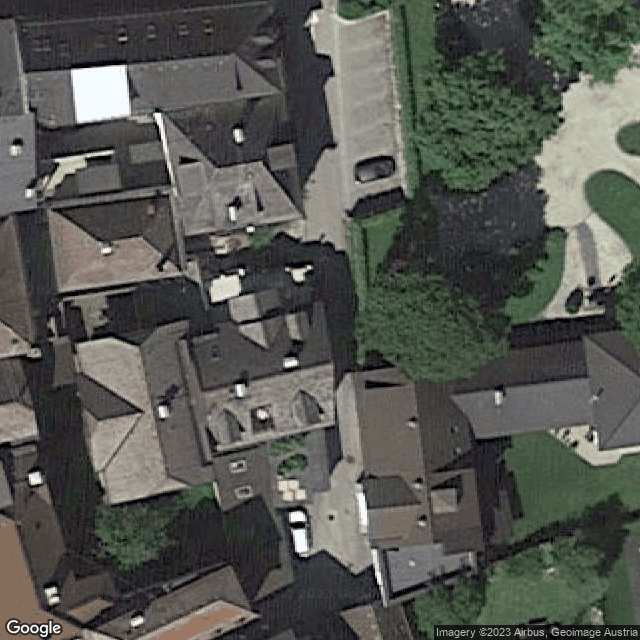obstacles: (127, 615, 148, 629), (232, 128, 248, 145), (282, 356, 302, 369), (157, 404, 174, 419), (235, 383, 250, 400), (228, 207, 240, 224), (257, 409, 272, 422), (494, 390, 504, 407), (101, 246, 115, 256), (416, 521, 429, 530), (414, 483, 424, 492), (407, 421, 418, 428), (591, 394, 600, 402)
roof: (21, 1, 287, 135), (78, 321, 221, 505), (353, 362, 484, 549), (189, 303, 336, 457), (163, 96, 307, 235), (49, 196, 186, 292), (467, 341, 591, 440), (95, 566, 258, 640), (583, 329, 640, 456)
